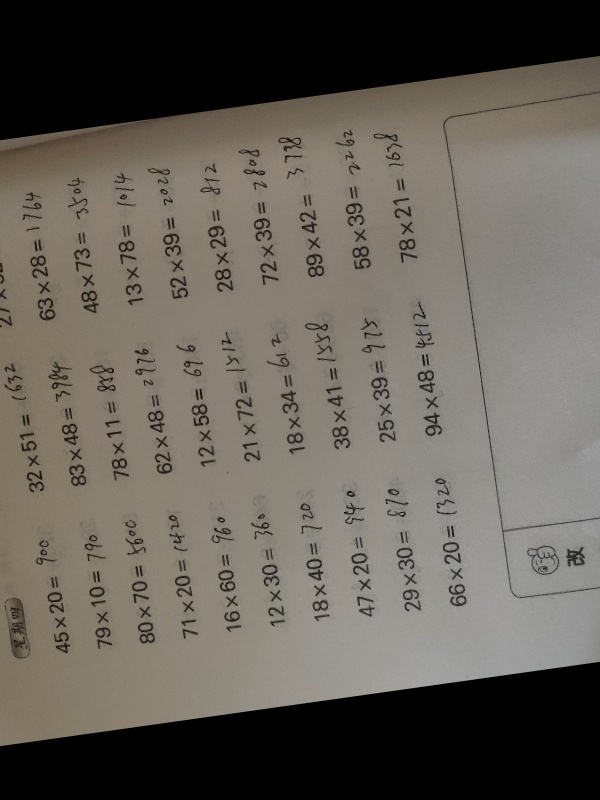equation: (102, 160, 156, 309), (219, 312, 269, 468), (375, 121, 423, 276), (284, 127, 329, 292), (136, 327, 182, 486), (243, 143, 286, 293), (337, 120, 377, 280), (265, 318, 310, 460), (46, 348, 88, 497), (122, 507, 163, 658), (151, 149, 190, 307), (181, 331, 223, 477), (94, 348, 136, 490), (296, 492, 337, 634), (380, 476, 421, 615), (62, 166, 99, 319), (254, 503, 293, 644), (205, 504, 246, 638), (75, 524, 115, 655), (18, 188, 55, 326), (341, 490, 377, 629), (313, 316, 349, 452), (409, 298, 443, 440), (360, 313, 396, 444), (434, 472, 468, 609), (5, 360, 39, 496), (199, 160, 233, 294), (35, 534, 68, 658), (166, 511, 197, 641), (0, 182, 19, 331), (554, 513, 600, 551)
